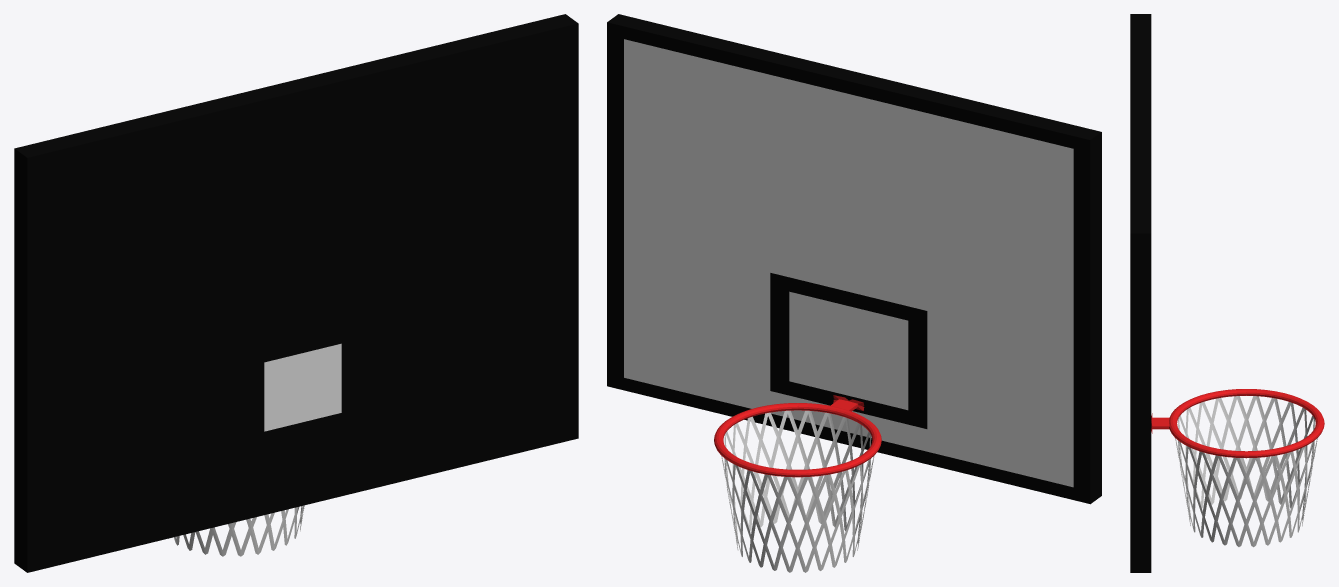
File: hoop.fbx
3 views of the same model, side by side, from view 1: azimuth 30°, elevation 25°; view 2: azimuth 150°, elevation 25°; view 3: azimuth 270°, elevation 25° (orthographic). The views are drawn at different scales.
Parts seen in each view (by area): view 1: Cube.001, Cube.002; view 2: Cube.001, Cube.002; view 3: Cube.001, Cube.002.
Boxes of the visible parts, x1,y1,x2,y2 form: Cube.001: [14, 14, 578, 572]; Cube.002: [168, 505, 304, 556]; Cube.001: [607, 14, 1101, 504]; Cube.002: [721, 410, 874, 572]; Cube.001: [1130, 14, 1324, 572]; Cube.002: [1175, 396, 1317, 547].
Bounding box in the file's own units: 278 × 236 × 104.
